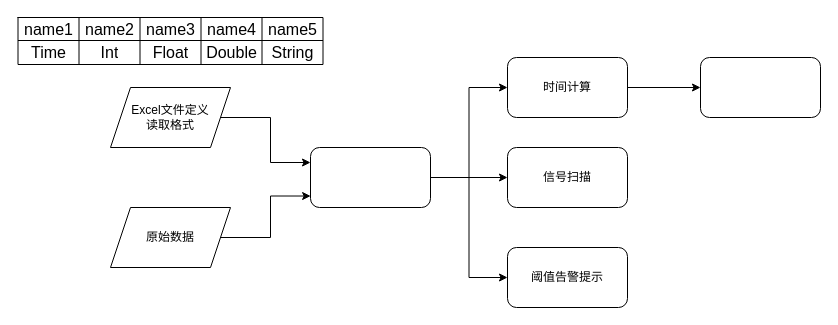
This 838x325 diagram has some shape labels left out. The box of each missing label's shape, as (x1, y1, x2, y2) in pixels:
数据显示：既要显示计算值，也要显示标准值，并且判断是否符合标准。: (700, 56, 820, 118)
数据读取转换: (310, 146, 430, 208)
